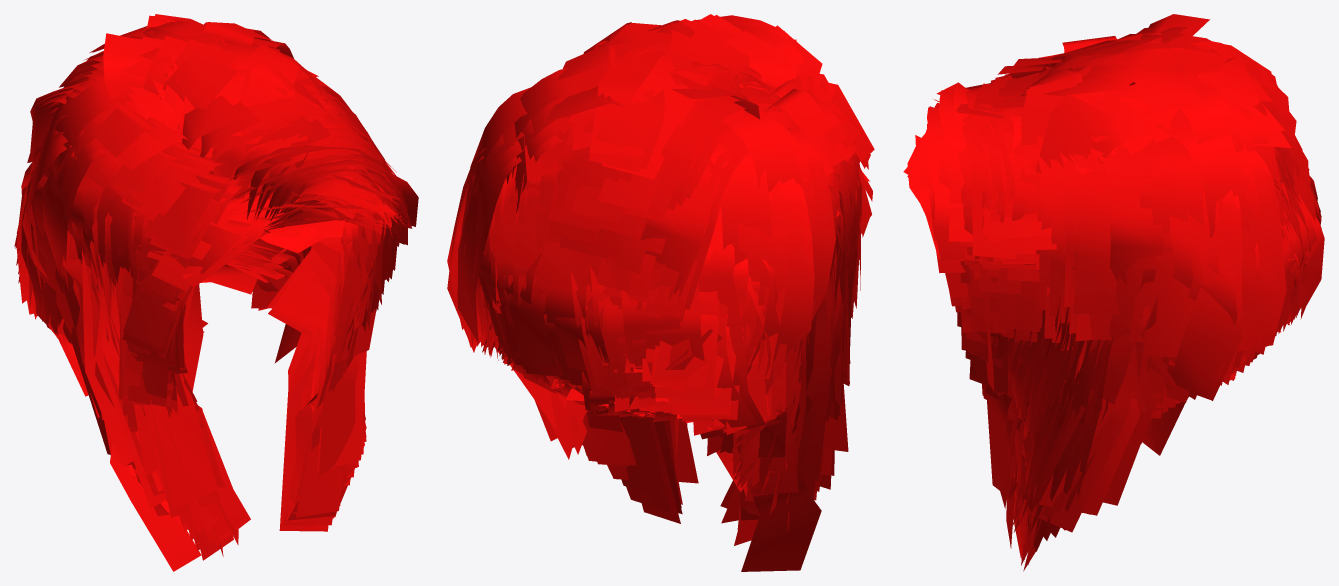
Rendered from o4saken_chinesebob01_F.glb.
The picture shows the model from 3 angles, left to right: view 1: azimuth 30°, elevation 25°; view 2: azimuth 150°, elevation 25°; view 3: azimuth 270°, elevation 25°; orthographic projection. The views are drawn at different scales.
Bounding box in the file's own units: 0.2322 × 0.3492 × 0.2647.
1 material, 1 textured.
